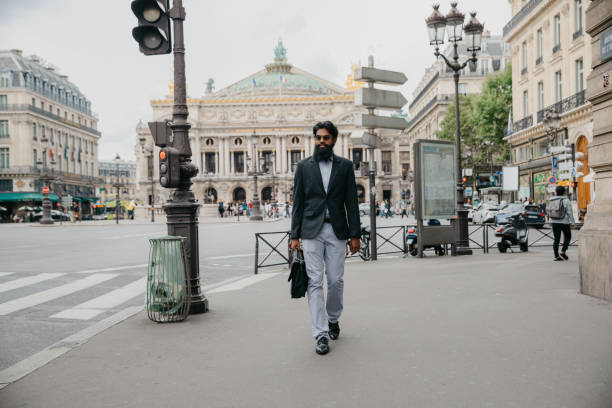yaya: (254, 98, 373, 365), (545, 183, 586, 257)
